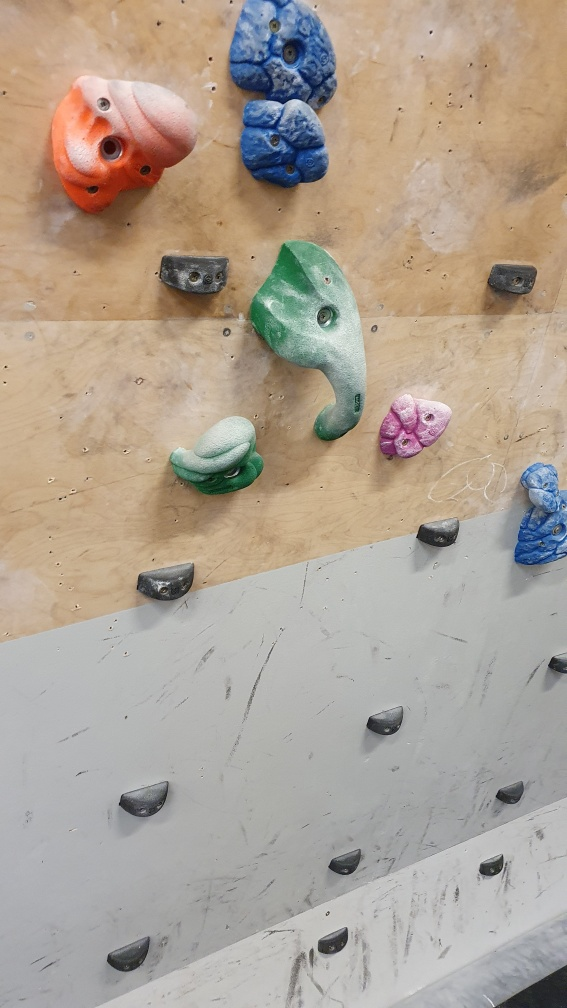Jug: (45, 71, 202, 217), (222, 1, 344, 114), (237, 94, 335, 193), (167, 414, 268, 498), (376, 391, 458, 464)
Pinch: (158, 253, 231, 295), (135, 560, 200, 601), (487, 257, 541, 299), (119, 778, 174, 818), (108, 934, 153, 977), (363, 701, 409, 739), (417, 516, 462, 548), (325, 847, 366, 877), (318, 925, 352, 956), (478, 852, 510, 878), (496, 779, 526, 806), (548, 647, 567, 675)
